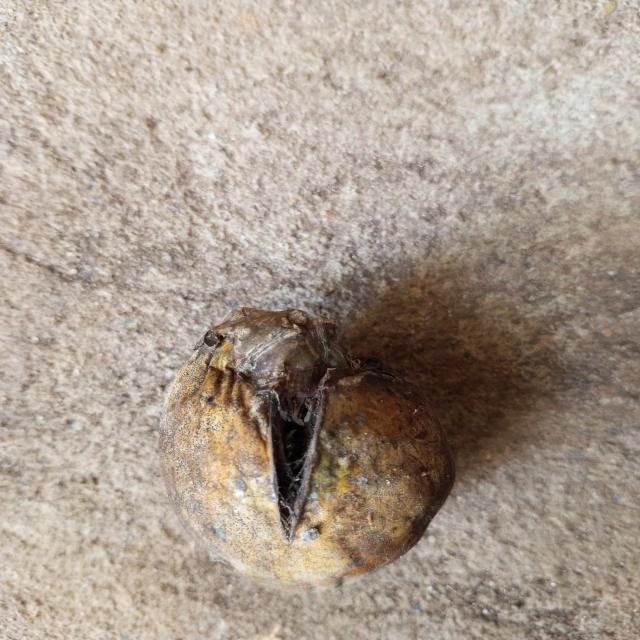damaged: (158, 305, 495, 593)
